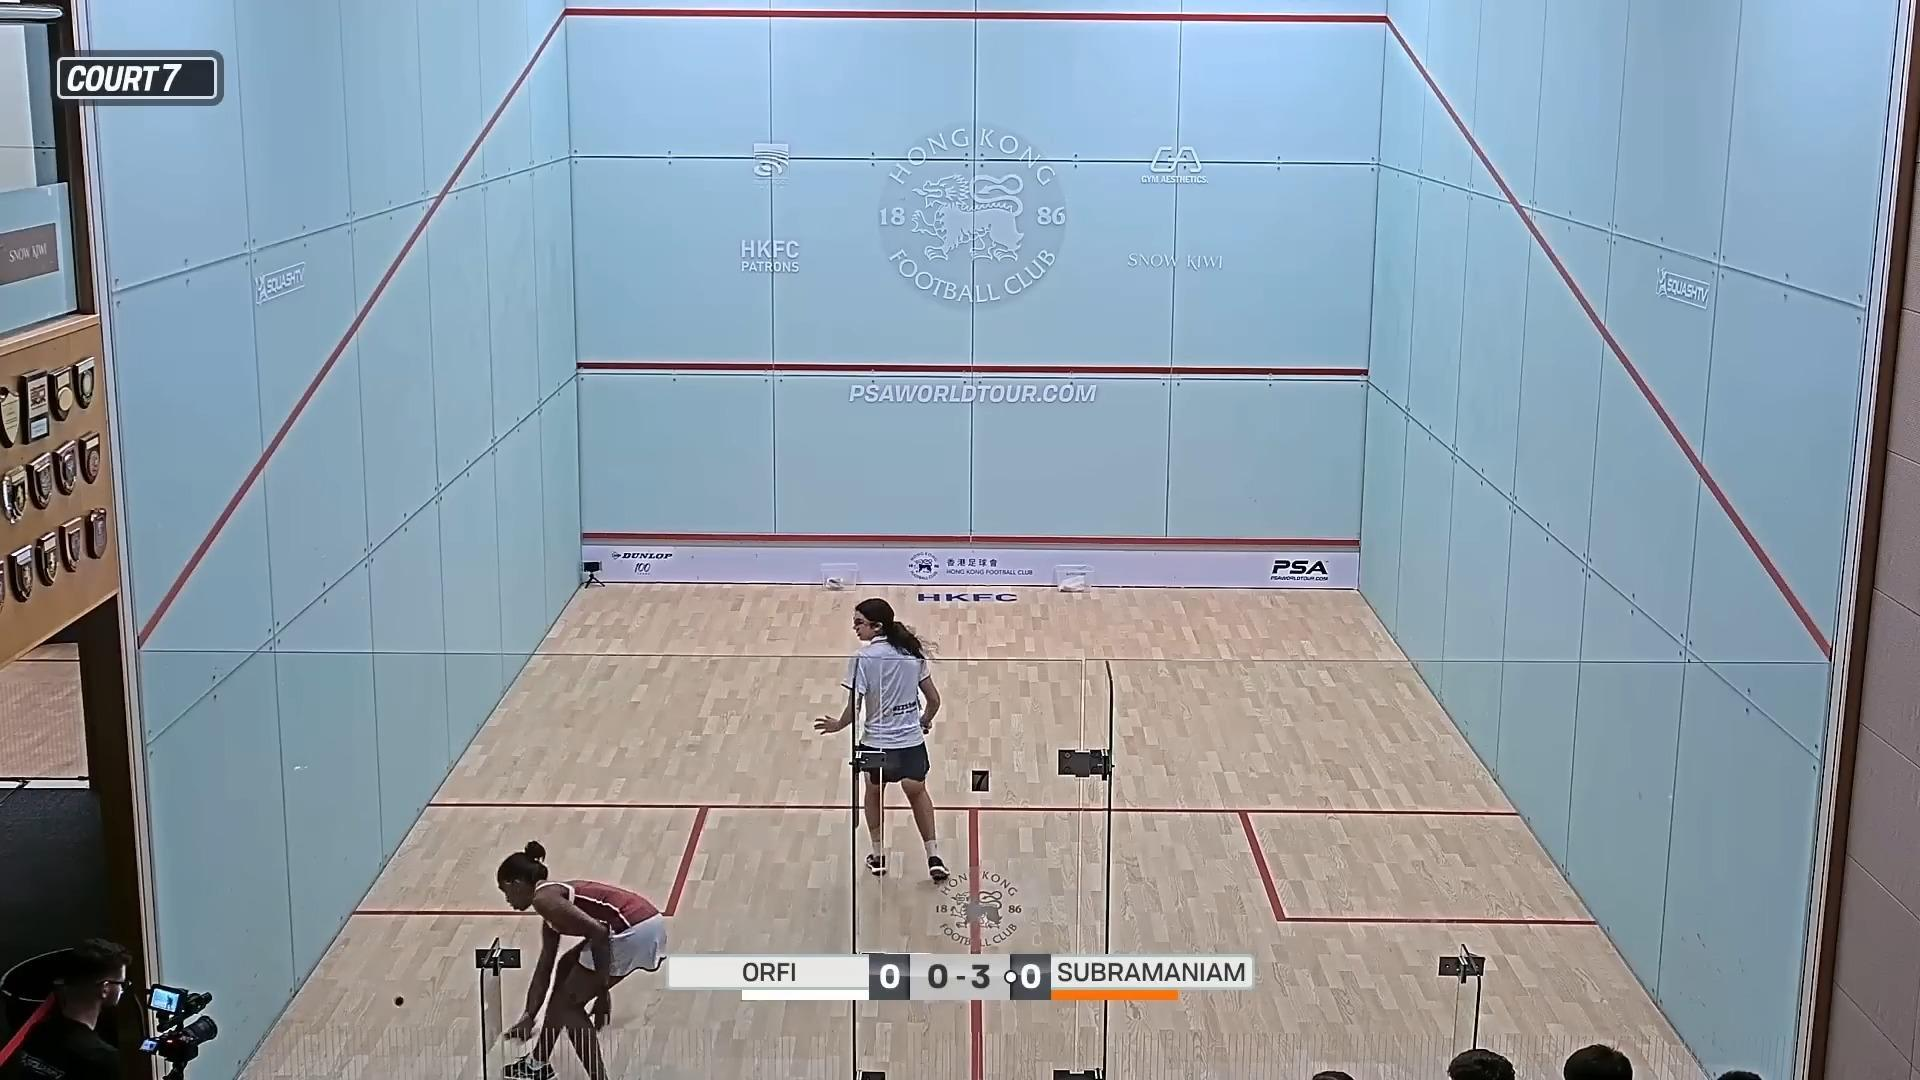Squash-Ball: (385, 982, 410, 1021)
